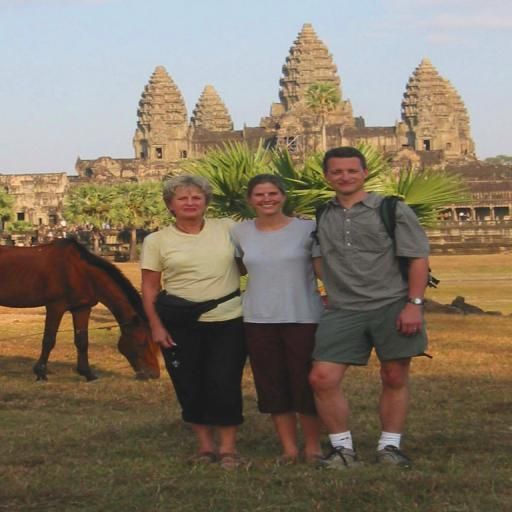horse: (0, 236, 159, 380)
